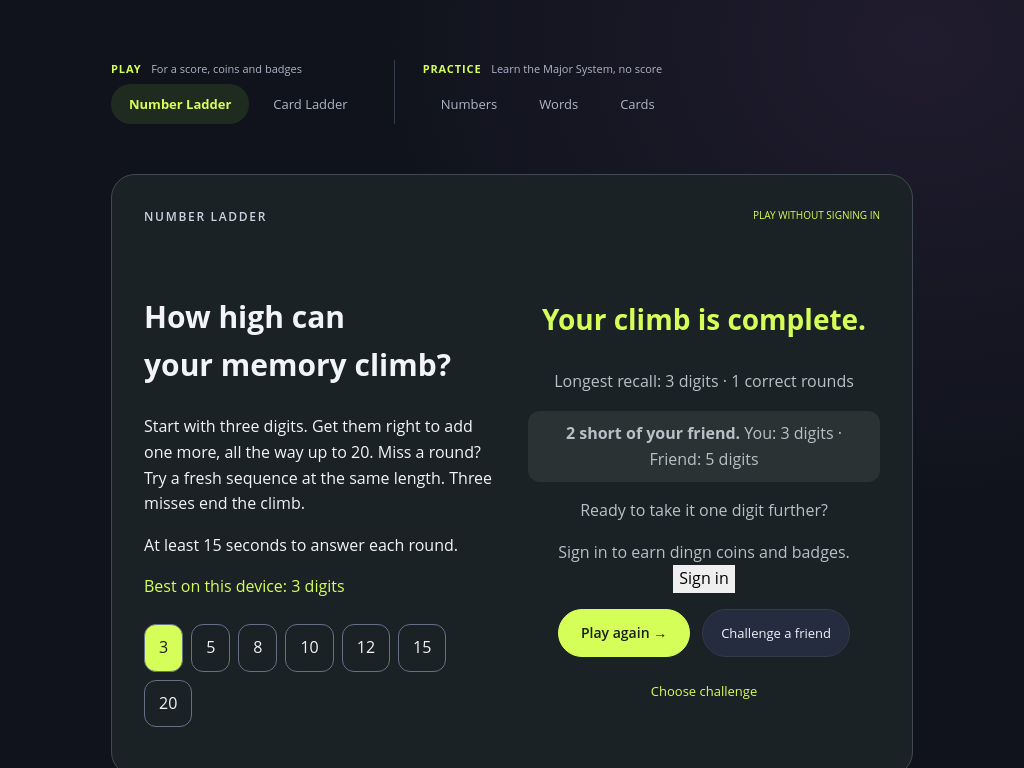
Test: a friend's challenge replays the same digits and compares scores
Earlier steps of the test are not shown.
expect the text "2 short of your friend." is shown: met, box [566,422,740,444]
expect the text "You: 3 digits · Friend: 5 digits" is shown: met, box [649,422,842,470]
Click the button "Challenge a friend" at (776, 633), box [702,609,850,657]
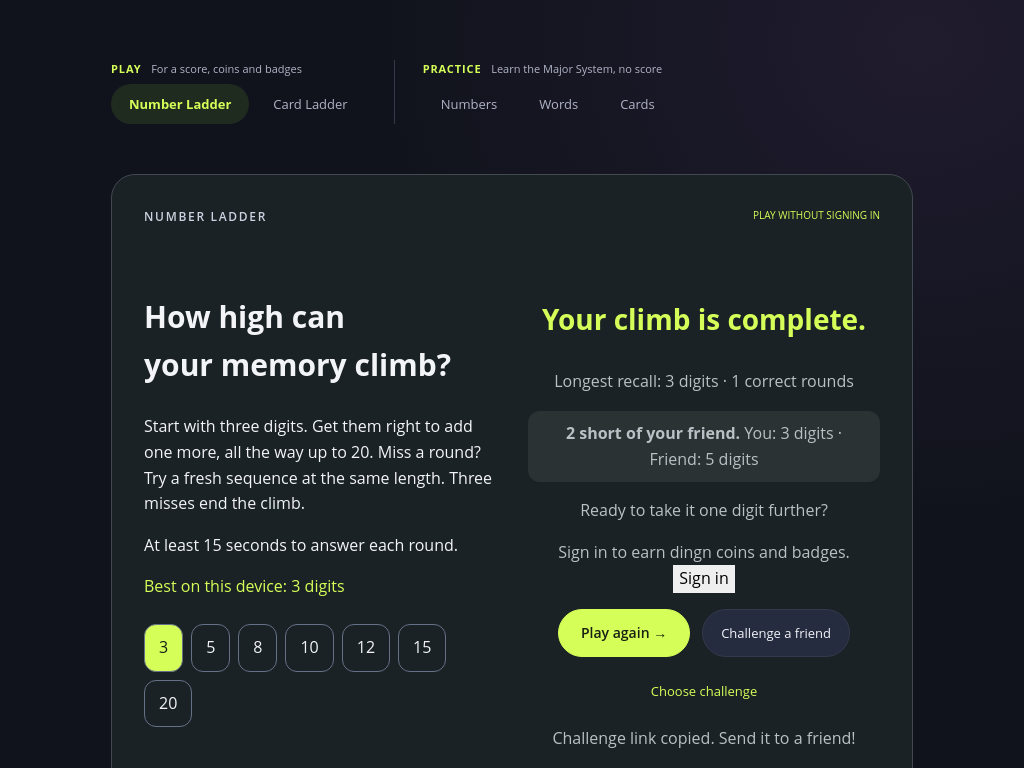
expect the text "Challenge link copied. Send it to a friend!" is shown: met, box [528,726,880,752]
